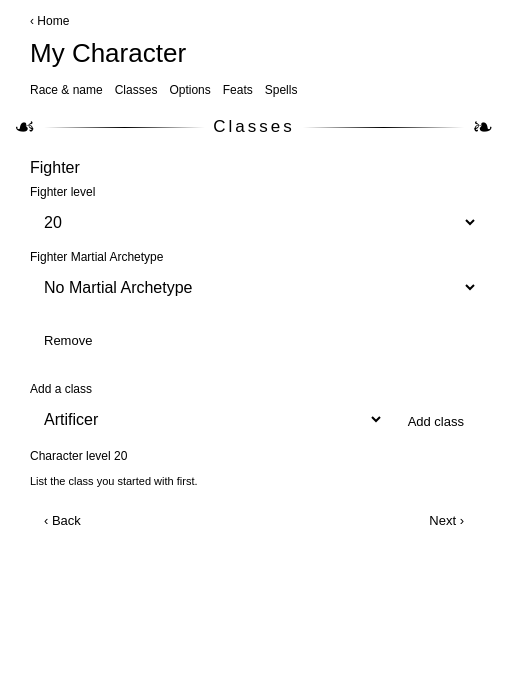
Test: level above 20 warns
The image size is (509, 688).
Select "Wizard" in the dropdown labelled "Add a class". click: (207, 420)
box: [30,400,384,439]
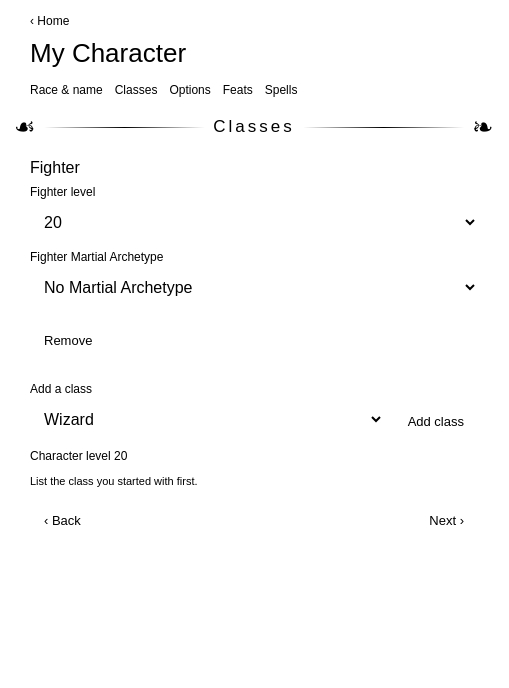
Click the button "Add class". click: (436, 422)
box: [394,404,478,439]
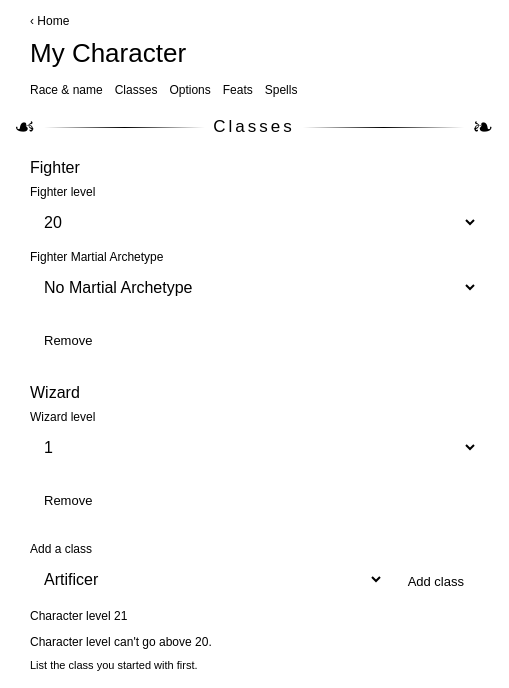
Check: the text "Character level can't go above 20." is shown, box [30,635,212,649]
